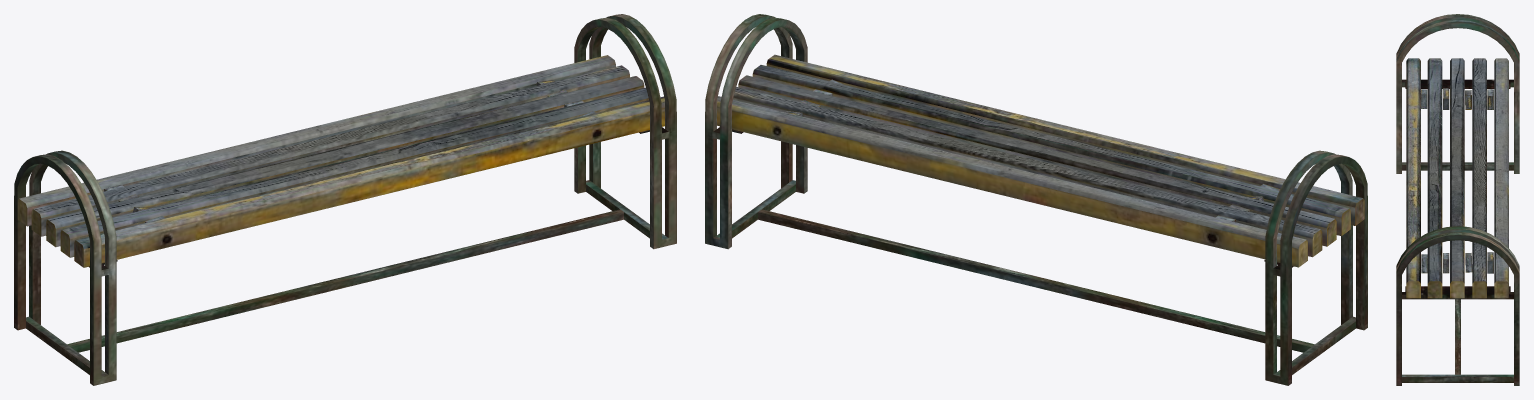
The model's file is bench_siberian.glb.
The picture shows the model from 3 angles, left to right: view 1: azimuth 30°, elevation 25°; view 2: azimuth 150°, elevation 25°; view 3: azimuth 270°, elevation 25°; orthographic projection. The views are drawn at different scales.
Visible parts, largest first — view 1: bench_siberian; view 2: bench_siberian; view 3: bench_siberian.
Part boxes in pixels (x1,y1,x2,y2): bench_siberian: (14,14,676,385); bench_siberian: (705,14,1367,385); bench_siberian: (1396,14,1519,385).
Size of the model in its own units: 2.13 by 0.6733 by 0.4989.
1 material, 1 textured.
